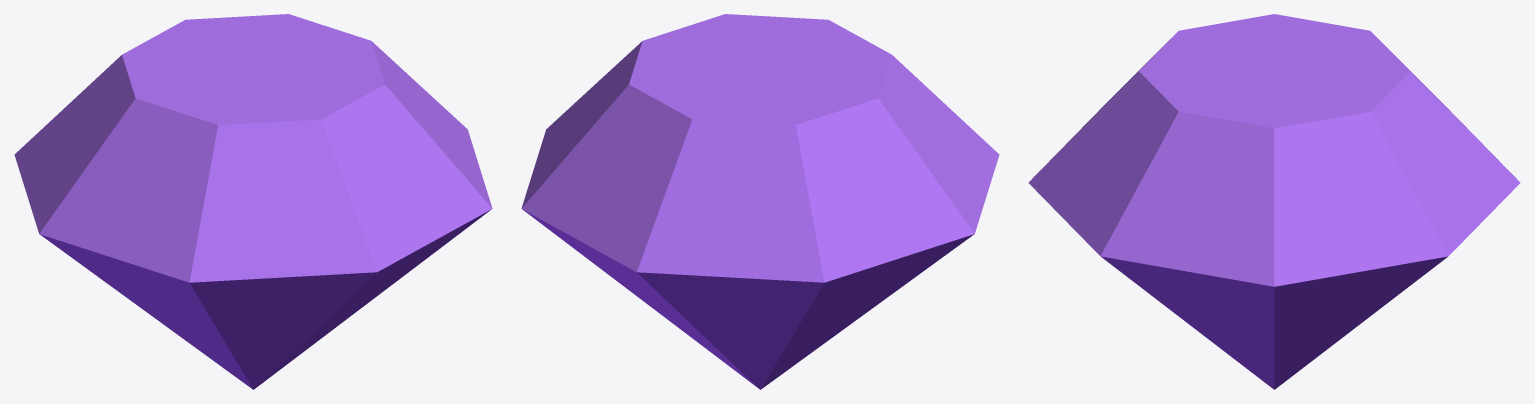
Rendered from PurpleGem.fbx.
3 views of the same model, side by side, from view 1: azimuth 30°, elevation 25°; view 2: azimuth 150°, elevation 25°; view 3: azimuth 270°, elevation 25° (orthographic).
Parts seen in each view (by area): view 1: PurpleGem; view 2: PurpleGem; view 3: PurpleGem.
Part boxes in pixels (<box>): PurpleGem: <box>14,14,492,389</box>; PurpleGem: <box>521,14,999,389</box>; PurpleGem: <box>1028,14,1520,389</box>.
Bounding box in the file's own units: 1.4 × 1 × 1.4.
1 material, 1 textured.
